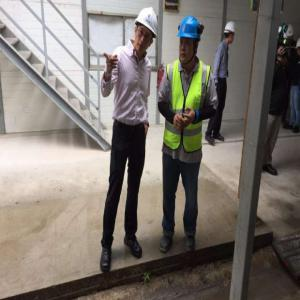blue: (179, 17, 202, 65)
white: (134, 8, 159, 53), (224, 22, 237, 45), (286, 24, 295, 43), (296, 39, 300, 58)
